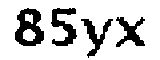5: (49, 4, 79, 51)
8: (12, 5, 47, 51)
x: (113, 14, 148, 51)
y: (80, 14, 112, 60)
